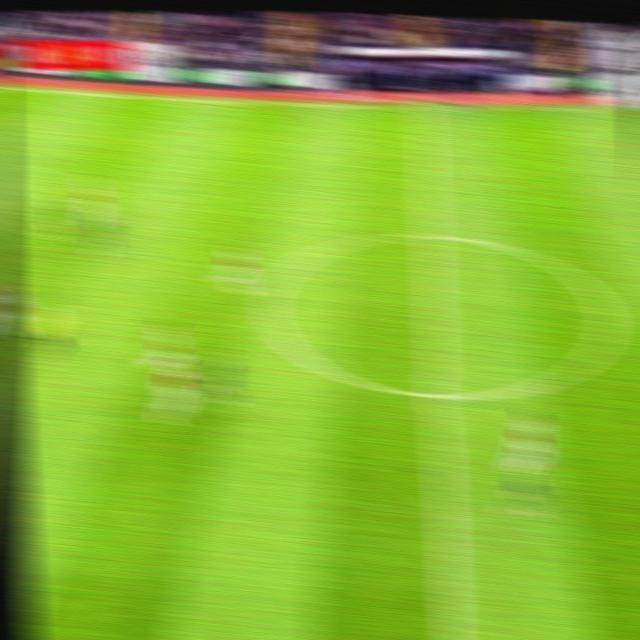halfcircle_bottom: (417, 374, 458, 414)
halfcircle_top: (407, 216, 451, 255)
midline_top_intersection: (407, 92, 441, 121)
